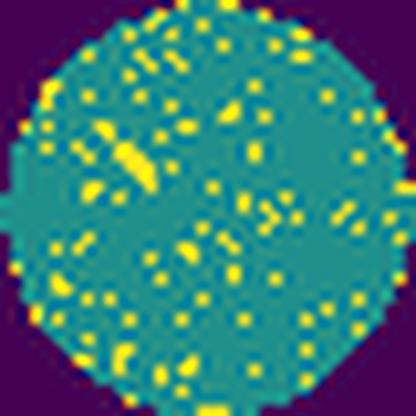Loc: (109, 136, 155, 193)
